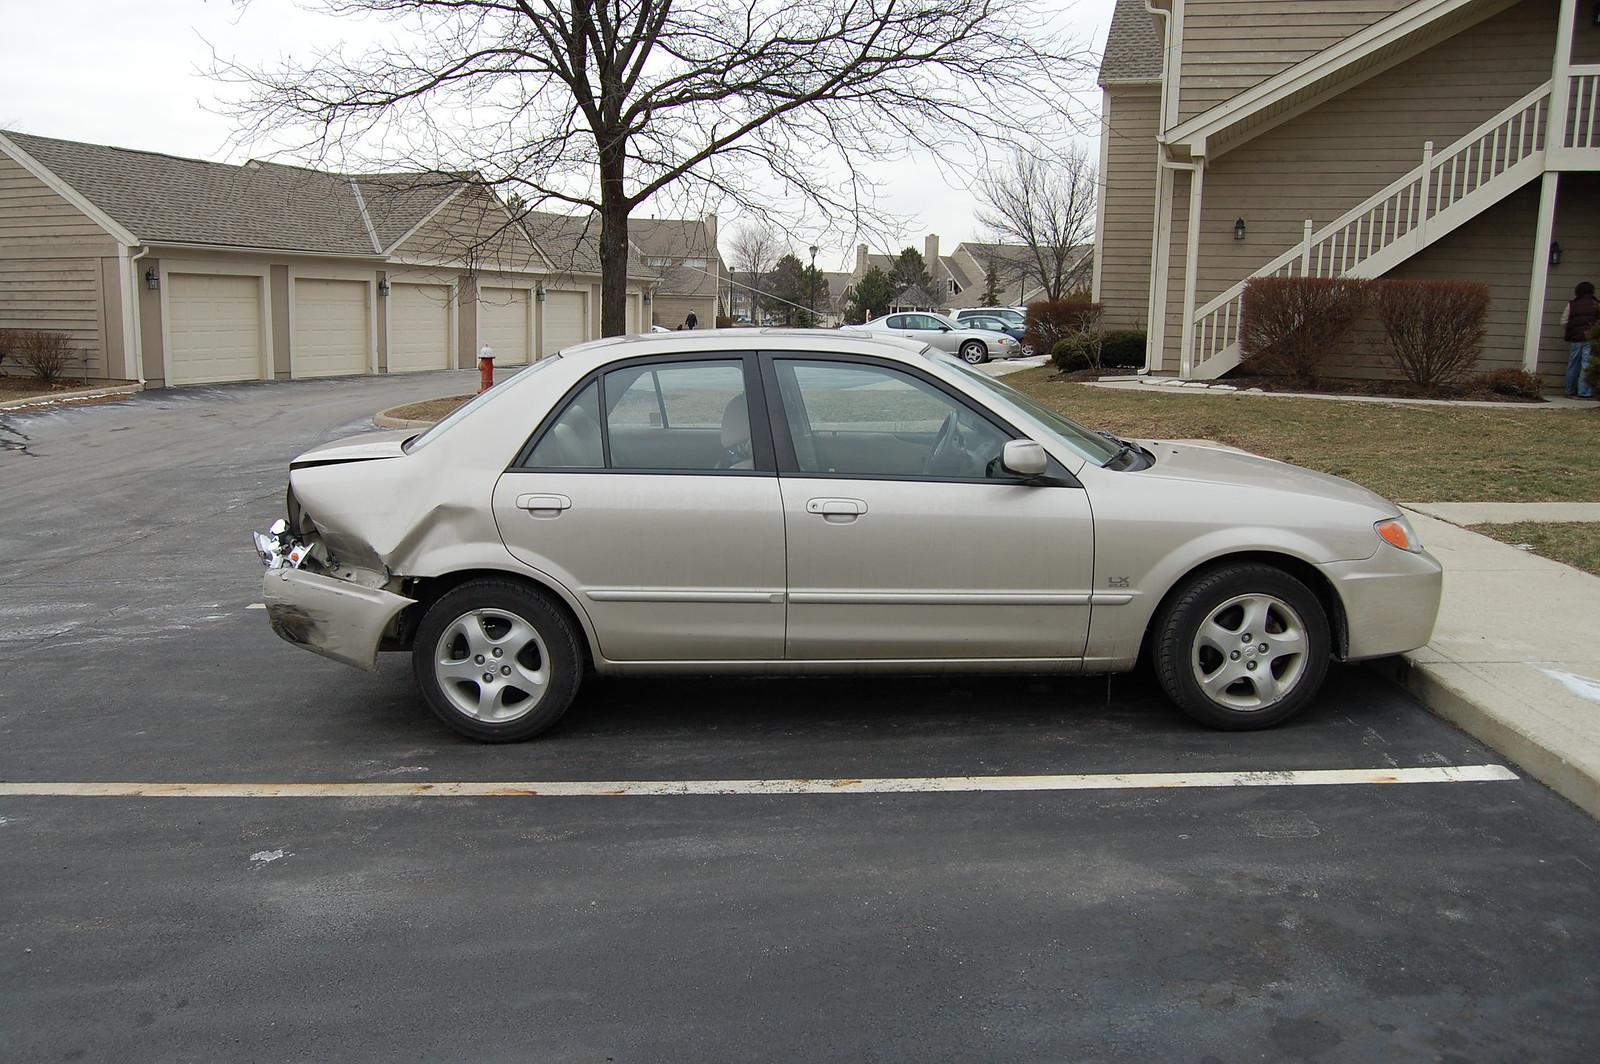quaterpanel-dent: (308, 460, 492, 582)
rear-bumper-dent: (261, 528, 390, 648)
